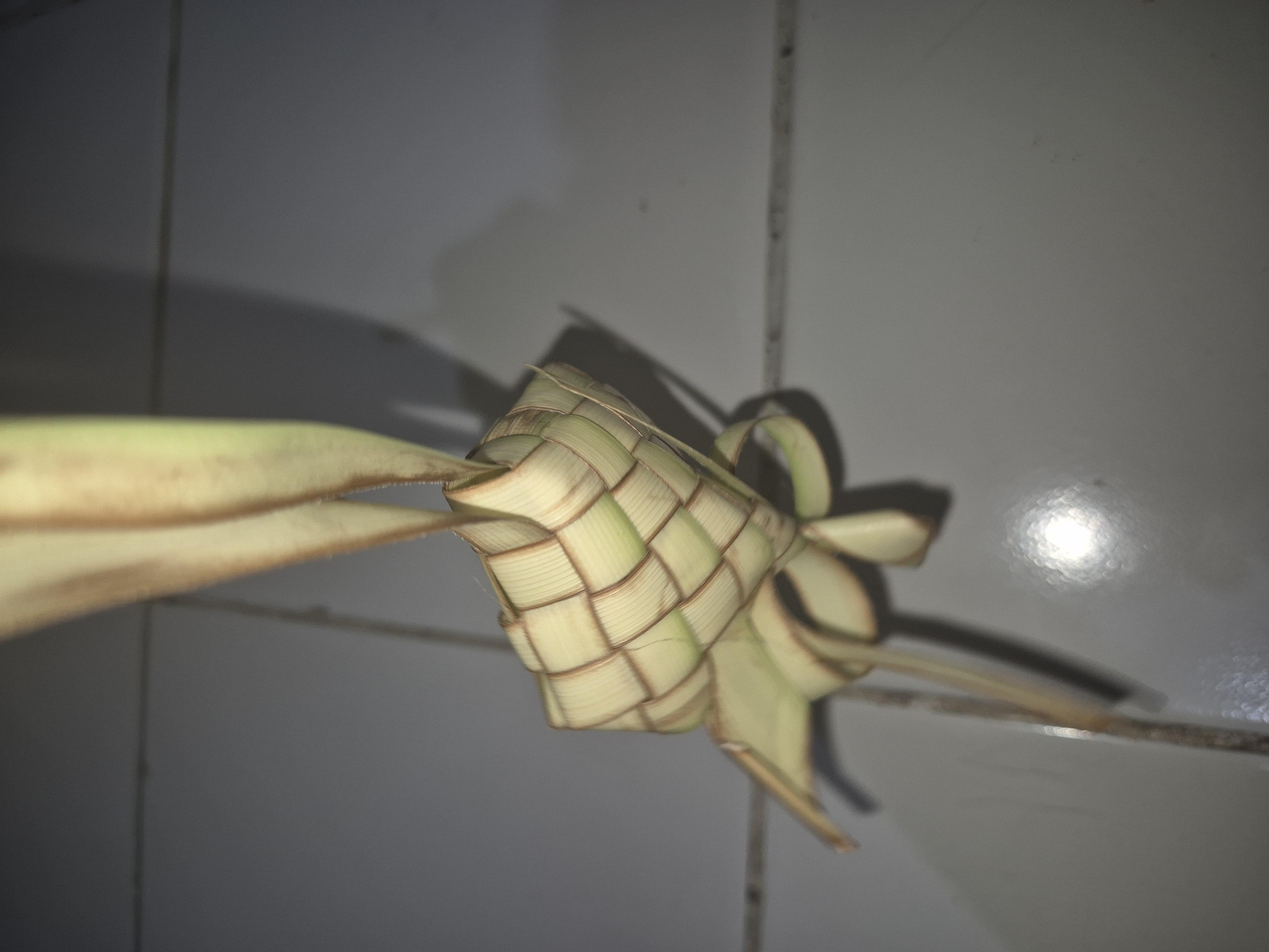Tipat Dampulan: (151, 333, 783, 832)
